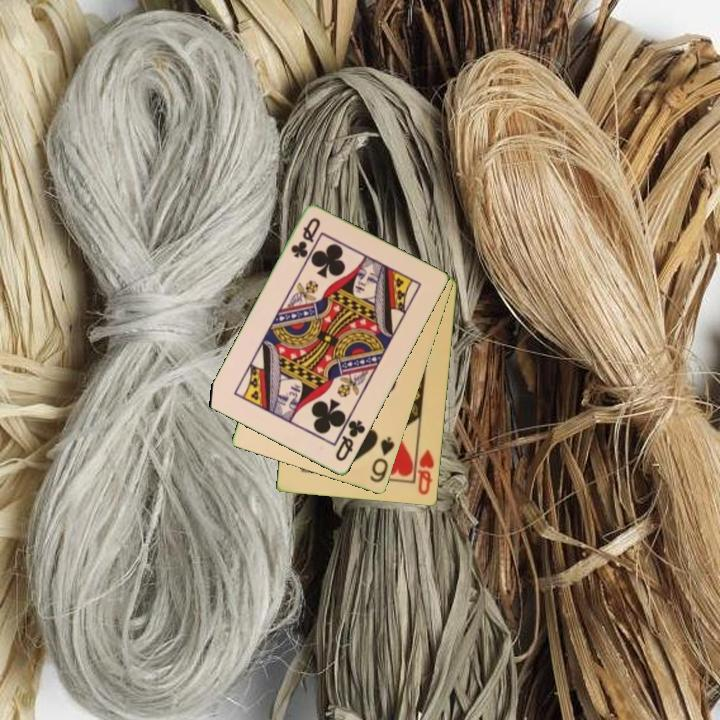6s: (367, 433, 398, 486)
Qc: (332, 416, 369, 465), (287, 215, 323, 262)
Qh: (414, 446, 437, 498)
